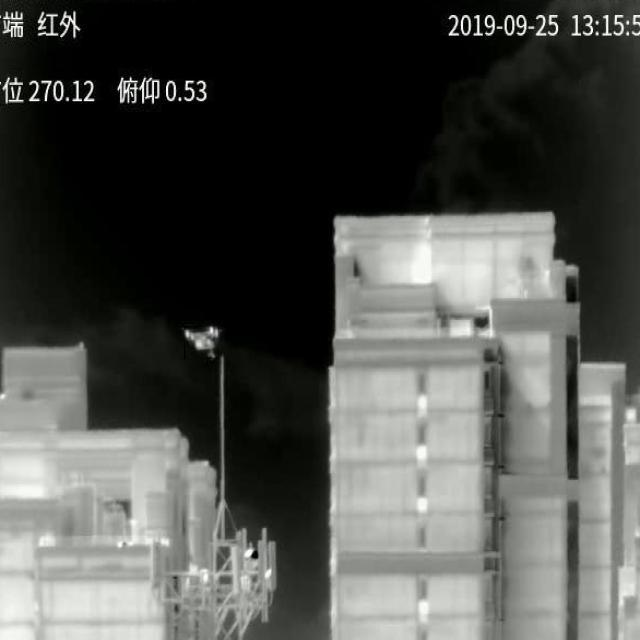drone: (184, 326, 219, 358)
